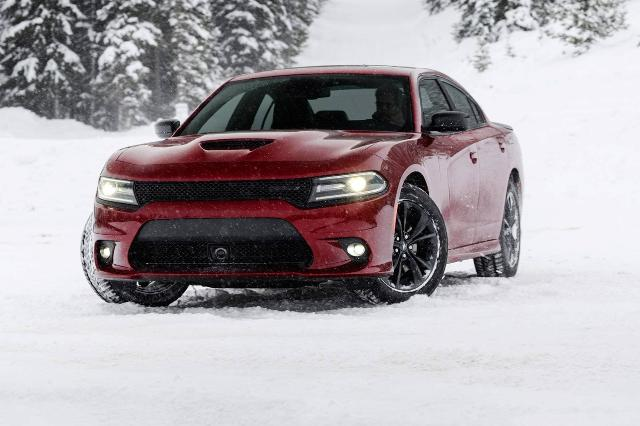dodge: (80, 62, 524, 308)
